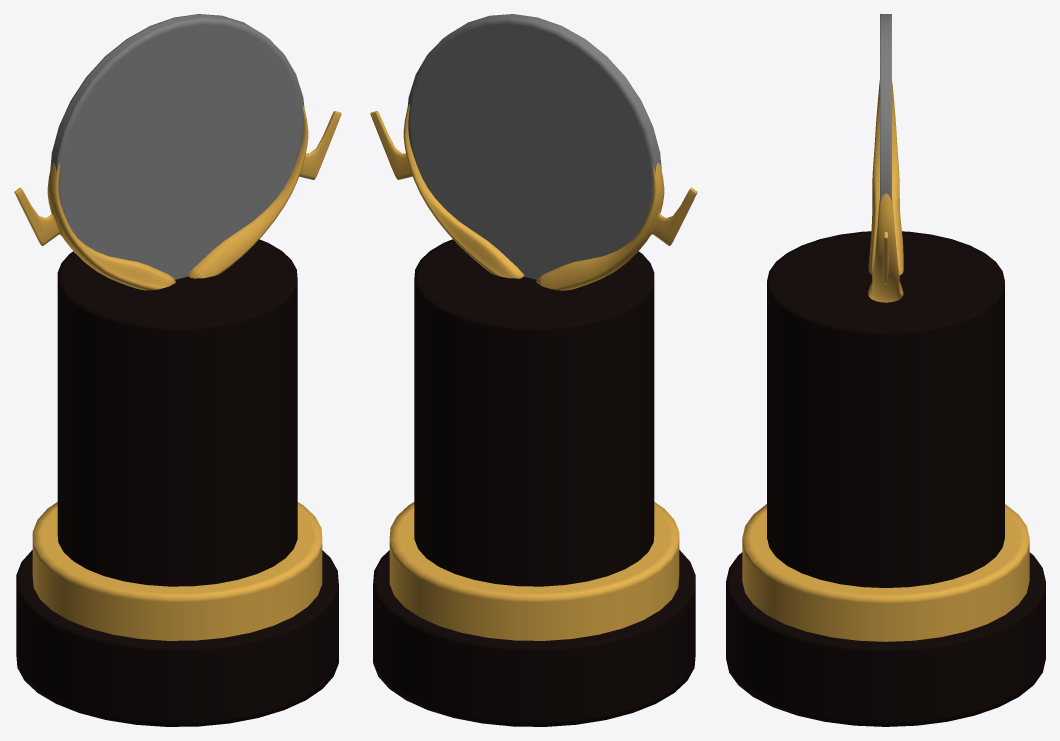
File: turnable mirror.fbx
3 views of the same model, side by side, from view 1: azimuth 30°, elevation 25°; view 2: azimuth 150°, elevation 25°; view 3: azimuth 270°, elevation 25° (orthographic).
Visible parts, largest first — view 1: base long, mirror, base 1, base 2, mirror handle.001, mirror handle; view 2: base long, mirror, base 1, base 2, mirror handle.001, mirror handle; view 3: base long, base 1, base 2, mirror handle, mirror handle.001, mirror.
Boxes of the visible parts, box(x1,y1,x2,y2) form: base long: box(57, 239, 297, 586); mirror: box(50, 14, 304, 279); base 1: box(16, 550, 338, 726); base 2: box(32, 502, 322, 640); mirror handle.001: box(14, 162, 175, 290); mirror handle: box(187, 106, 341, 278); base long: box(414, 239, 654, 586); mirror: box(407, 14, 661, 279); base 1: box(373, 550, 695, 726); base 2: box(389, 502, 679, 640); mirror handle.001: box(536, 162, 697, 290); mirror handle: box(370, 104, 524, 278); base long: box(767, 231, 1004, 587); base 1: box(726, 552, 1045, 726); base 2: box(742, 504, 1029, 641); mirror handle: box(868, 193, 903, 302); mirror handle.001: box(868, 80, 903, 275); mirror: box(880, 14, 891, 201).
Bounding box in the file's own units: 180 × 338 × 155.
